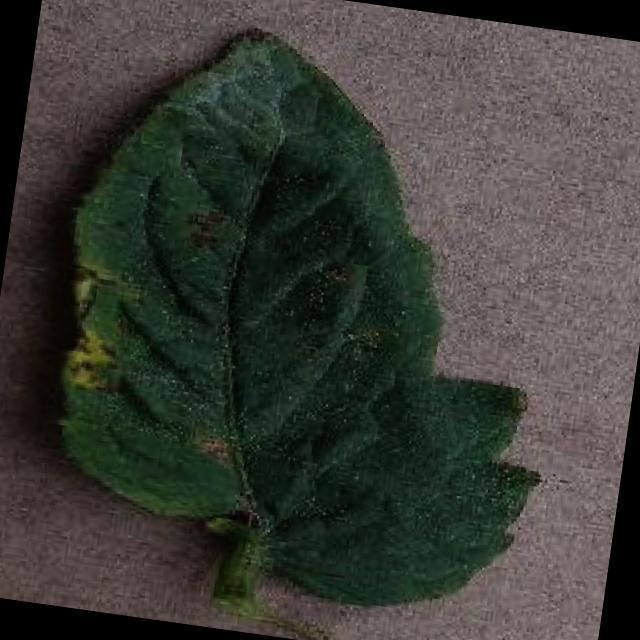Tomato bacterial spot leaf: (22, 2, 609, 634)
